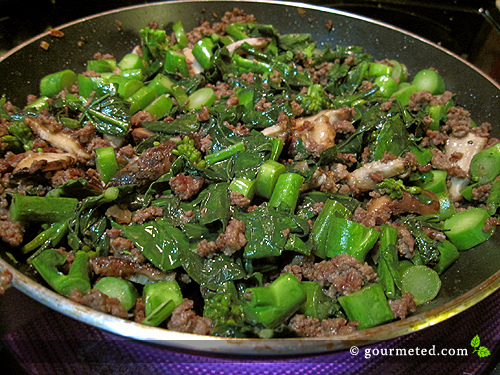broccoli: (201, 282, 250, 336), (299, 82, 331, 116)
